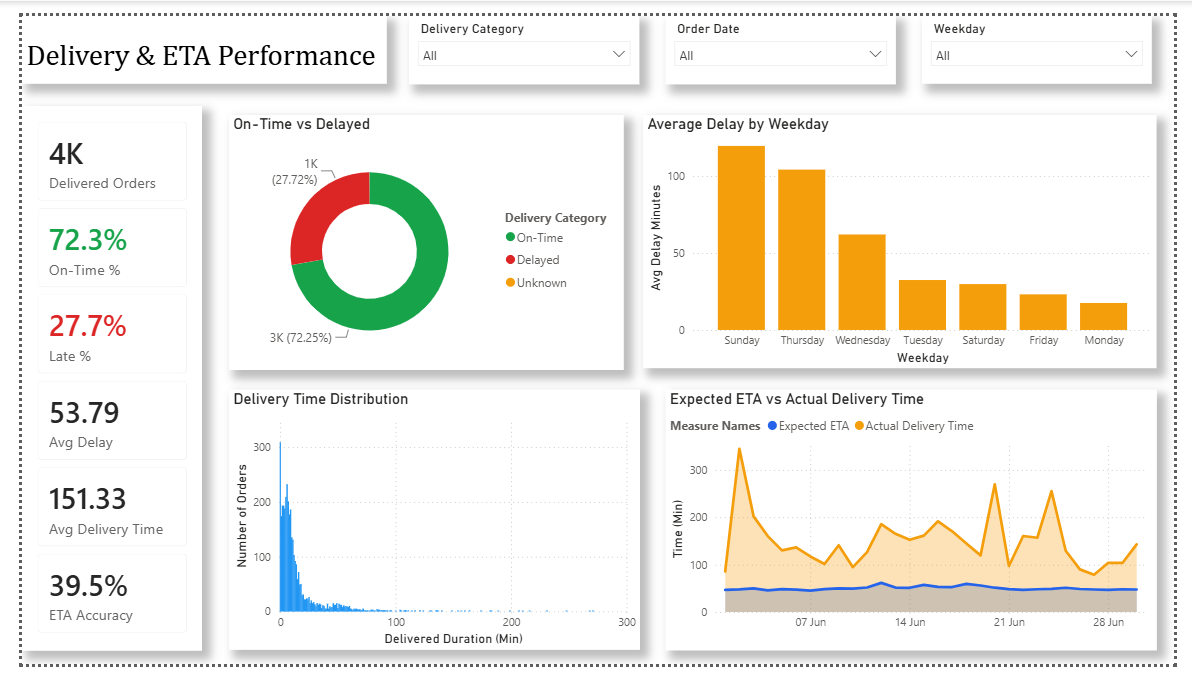

This screenshot's page, from the dashboard's own definition file:
{"tool":"powerbi","page":{"name":"Delivery Performance & ETA ","canvas":[1280,720],"ordinal":1},"visuals":[{"type":"textbox","box":[0,0,405,75],"z":0},{"type":"cardVisual","fields":{"Data":["_Measures.Delivered Orders","_Measures.% Delivered On-Time","_Measures.% Delivered Late","_Measures.Avg Delay Minutes","_Measures.Avg Total Delivery Time (Min)","_Measures.ETA Accuracy %"]},"box":[0,100,200,605],"z":1000},{"type":"slicer","fields":{"Values":["Orders.Order Date.Variation.Date Hierarchy.Year"]},"box":[715,0,255.8,76],"z":2000},{"type":"slicer","fields":{"Values":["Orders.Delivery Category"]},"box":[430,0,255.8,76],"z":3000},{"type":"slicer","fields":{"Values":["Orders.Weekday"]},"box":[1000,0,255,75.6],"z":4000},{"type":"clusteredColumnChart","title":"Delivery Time Distribution","fields":{"Category":["Orders.Delivered Duration (Min)"],"Y":["CountNonNull(Orders.Order ID)"]},"box":[229.2,415.4,456.9,289.2],"z":5000},{"type":"donutChart","title":"On-Time vs Delayed","fields":{"Category":["Orders.Delivery Category"],"Y":["_Measures.Delivered Orders"]},"box":[825,100,438.3,283.3],"z":6000},{"type":"areaChart","title":"Expected ETA vs Actual Delivery Time","fields":{"Category":["Orders.Order Date"],"Y":["_Measures.Avg Expected ETA","_Measures.Avg Total Delivery Time (Min)"]},"box":[715,415,546.2,290],"z":7000},{"type":"clusteredColumnChart","title":"Average Delay by Weekday","fields":{"Category":["Orders.Weekday"],"Y":["_Measures.Avg Delay Minutes"]},"box":[230,100,571.7,281.7],"z":8000}]}

Visuals, with their boxes on the page's 1280x720 design canvas (x1, y1, x2, y2). These are canvas units, not pixel positions in the 1192x699 screenshot, which may show the page scaled, cropped or inside an application window:
textbox: (x1=0, y1=0, x2=405, y2=75)
cardVisual - _Measures.Delivered Orders x _Measures.% Delivered On-Time: (x1=0, y1=100, x2=200, y2=705)
slicer - Orders.Order Date.Variation.Date Hierarchy.Year: (x1=715, y1=0, x2=971, y2=76)
slicer - Orders.Delivery Category: (x1=430, y1=0, x2=686, y2=76)
slicer - Orders.Weekday: (x1=1000, y1=0, x2=1255, y2=76)
"Delivery Time Distribution" clusteredColumnChart: (x1=229, y1=415, x2=686, y2=705)
"On-Time vs Delayed" donutChart: (x1=825, y1=100, x2=1263, y2=383)
"Expected ETA vs Actual Delivery Time" areaChart: (x1=715, y1=415, x2=1261, y2=705)
"Average Delay by Weekday" clusteredColumnChart: (x1=230, y1=100, x2=802, y2=382)
